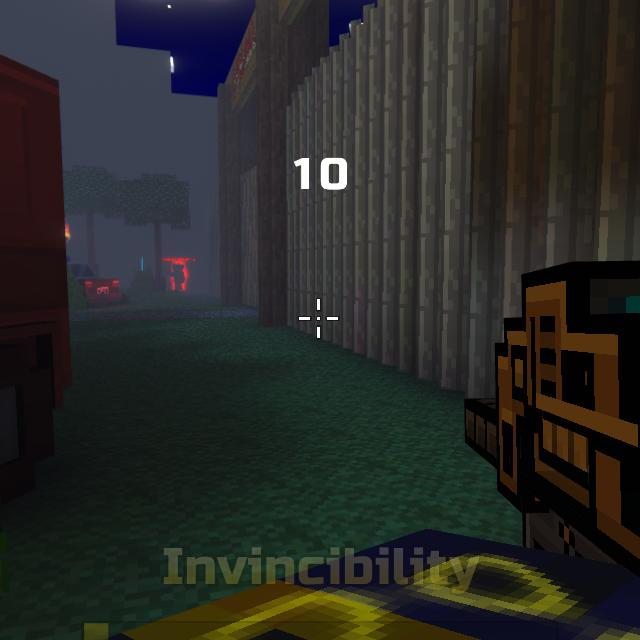Enemy: (170, 264, 185, 292)
